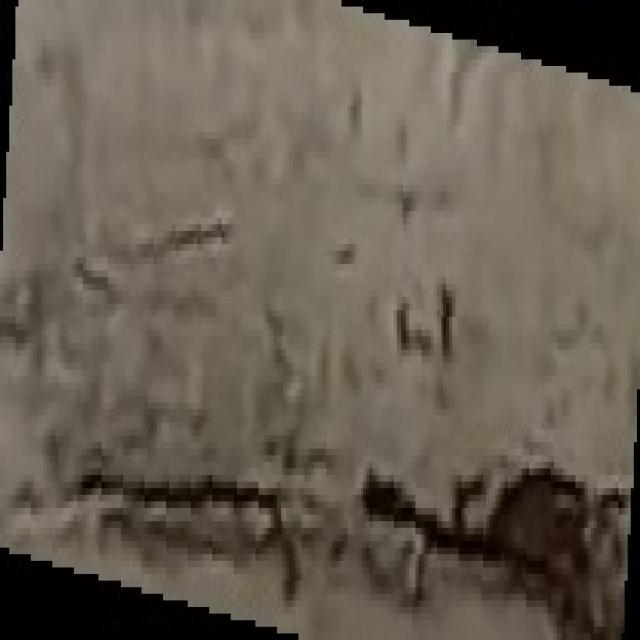crack: (106, 397, 285, 516)
